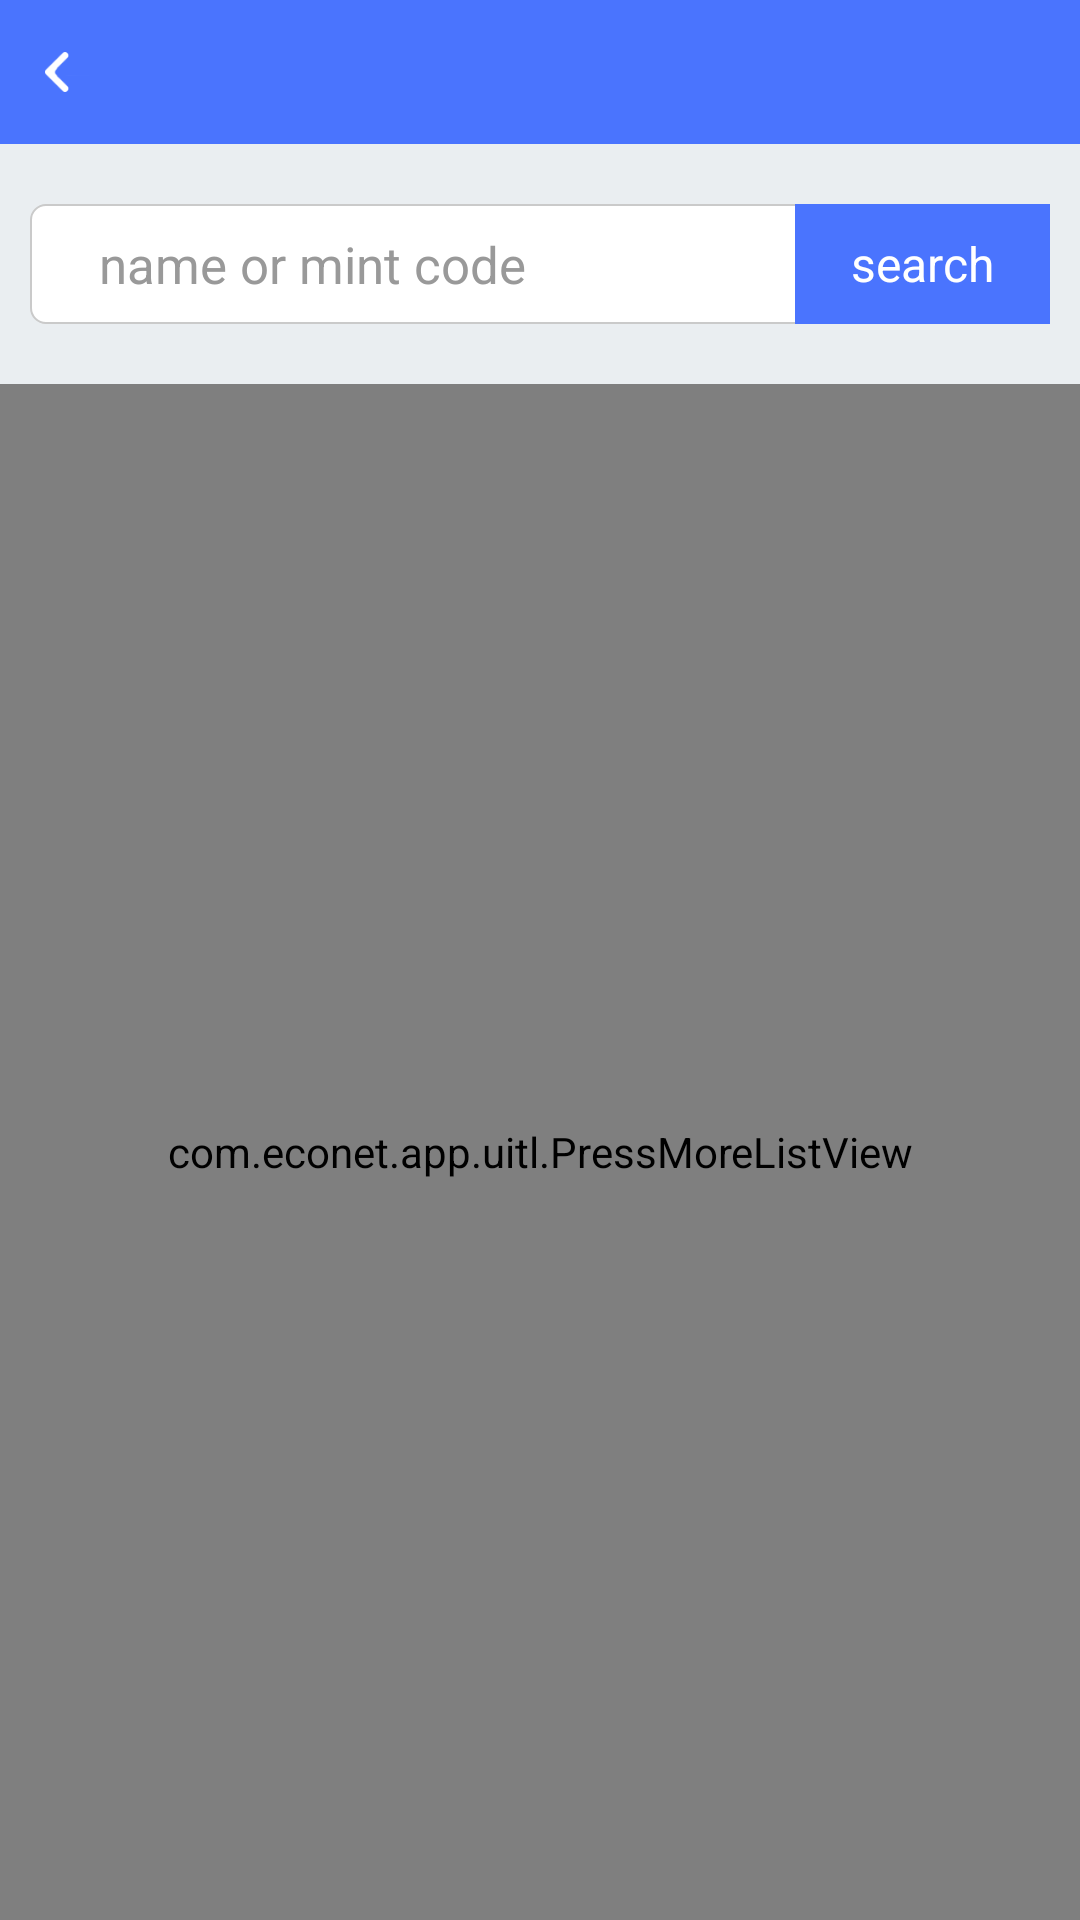

Where to tap for icons on this 1080px x 1920px app screen, as point (x, y):
back: point (57, 72)
